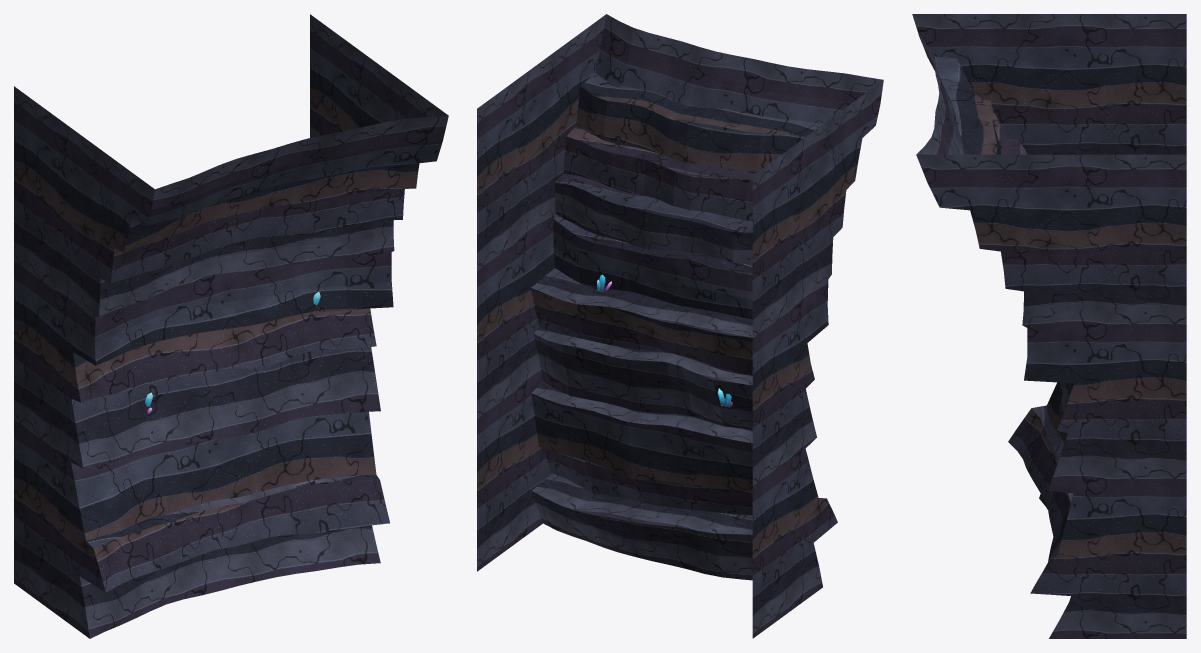
Rendered from cave_wall_strata.glb.
The picture shows the model from 3 angles, left to right: view 1: azimuth 30°, elevation 25°; view 2: azimuth 150°, elevation 25°; view 3: azimuth 270°, elevation 25°; orthographic projection. The views are drawn at different scales.
Visible parts, largest first — view 1: cave_wall_strata; view 2: cave_wall_strata; view 3: cave_wall_strata.
Boxes of the visible parts, box(x1,y1,x2,y2) form: cave_wall_strata: box(14, 14, 448, 638); cave_wall_strata: box(477, 14, 883, 638); cave_wall_strata: box(912, 14, 1186, 638).
Bounding box in the file's own units: 7.8 × 12.53 × 6.44.
3 materials, 3 textured.
